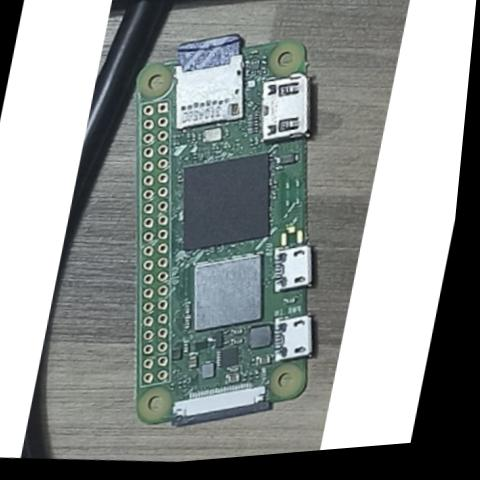Raspberry-Pi-Zero-2-W: (74, 24, 380, 453)
